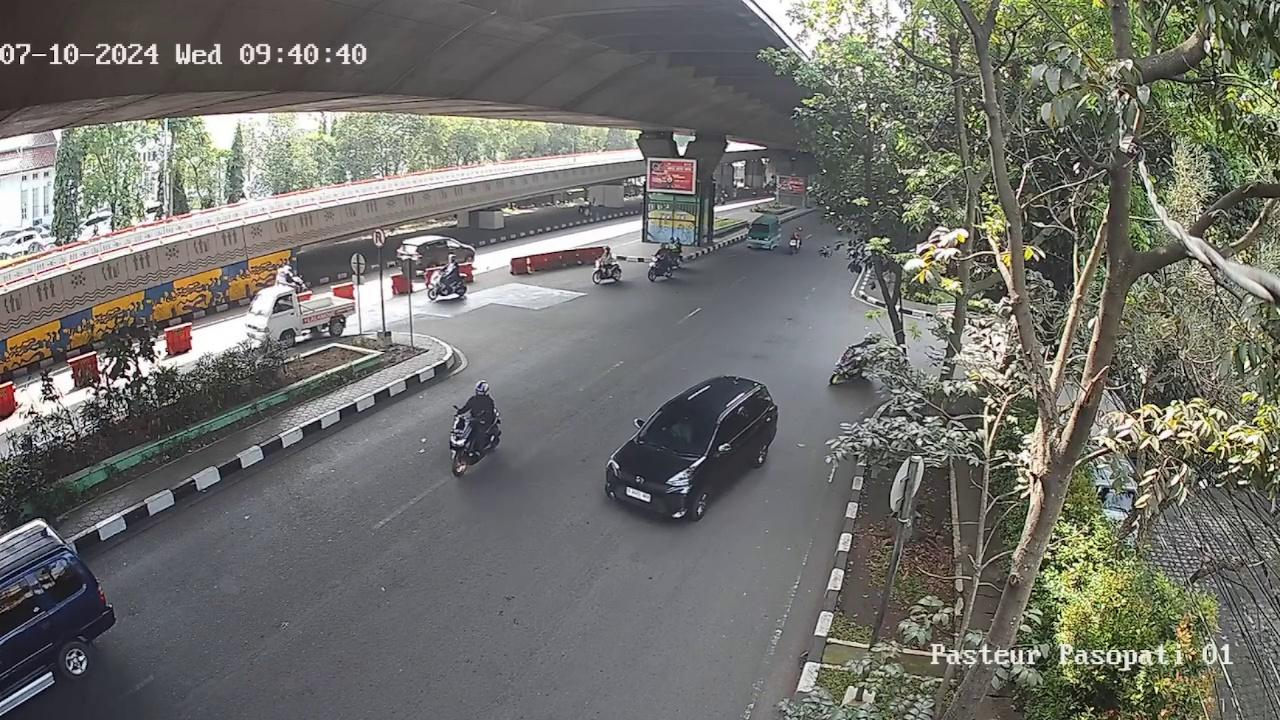pakai: (664, 415, 696, 444)
windshield: (636, 404, 725, 458)
